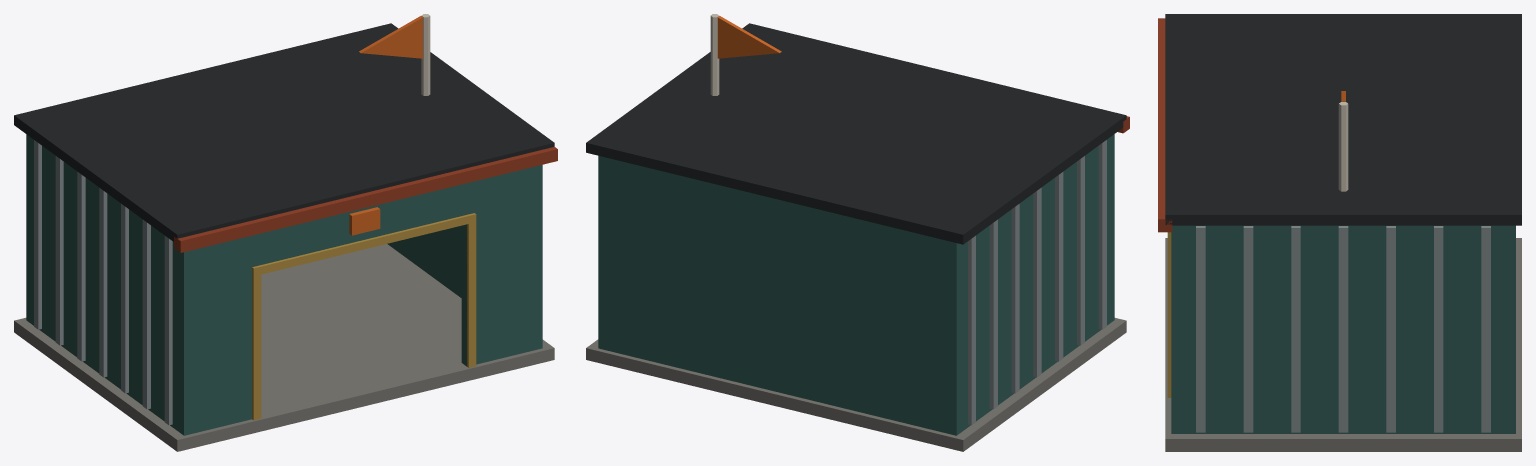
The model's file is poi_scooter_shed.glb.
3 views of the same model, side by side, from view 1: azimuth 30°, elevation 25°; view 2: azimuth 150°, elevation 25°; view 3: azimuth 270°, elevation 25° (orthographic). The views are drawn at different scales.
Visible parts, largest first — view 1: ScooterShed; view 2: ScooterShed; view 3: ScooterShed.
Boxes of the visible parts, box(x1,y1,x2,y2) form: ScooterShed: box(14, 14, 557, 451); ScooterShed: box(586, 14, 1129, 451); ScooterShed: box(1158, 14, 1521, 451).
Bounding box in the file's own units: 4 × 3 × 3.06.
